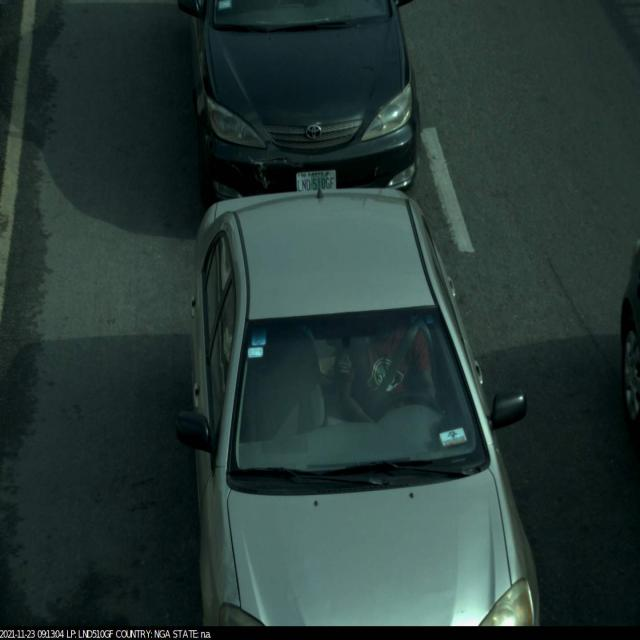windshield: (202, 288, 498, 514)
